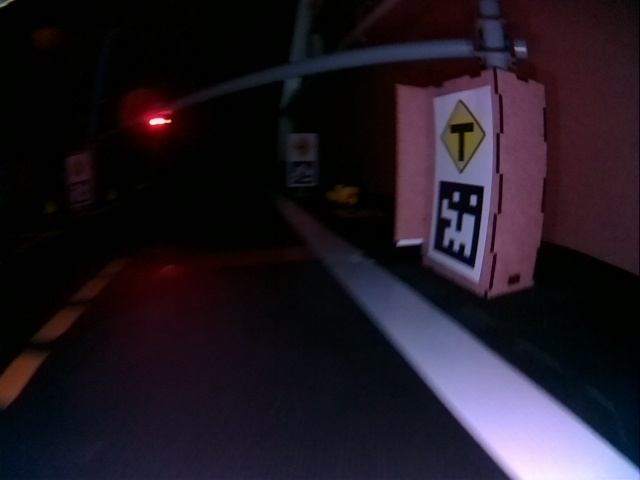Duckie: (341, 187, 357, 202), (328, 186, 342, 199)
Intersection sign: (435, 98, 488, 174)
QR code: (434, 180, 485, 270), (289, 164, 315, 186), (70, 183, 92, 204)
Traffic light: (144, 112, 173, 128)
